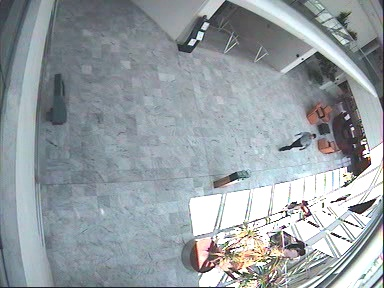person: (280, 131, 317, 150), (282, 198, 313, 217)
